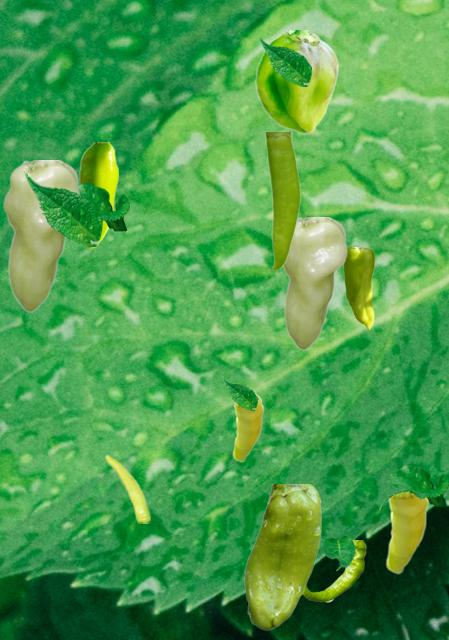green_chili: (2, 160, 79, 311), (244, 484, 320, 629), (255, 30, 338, 133), (283, 217, 346, 349), (264, 132, 299, 270), (79, 142, 117, 248), (303, 540, 365, 601), (385, 492, 428, 573), (105, 454, 149, 522), (343, 247, 373, 328), (232, 393, 263, 461)
